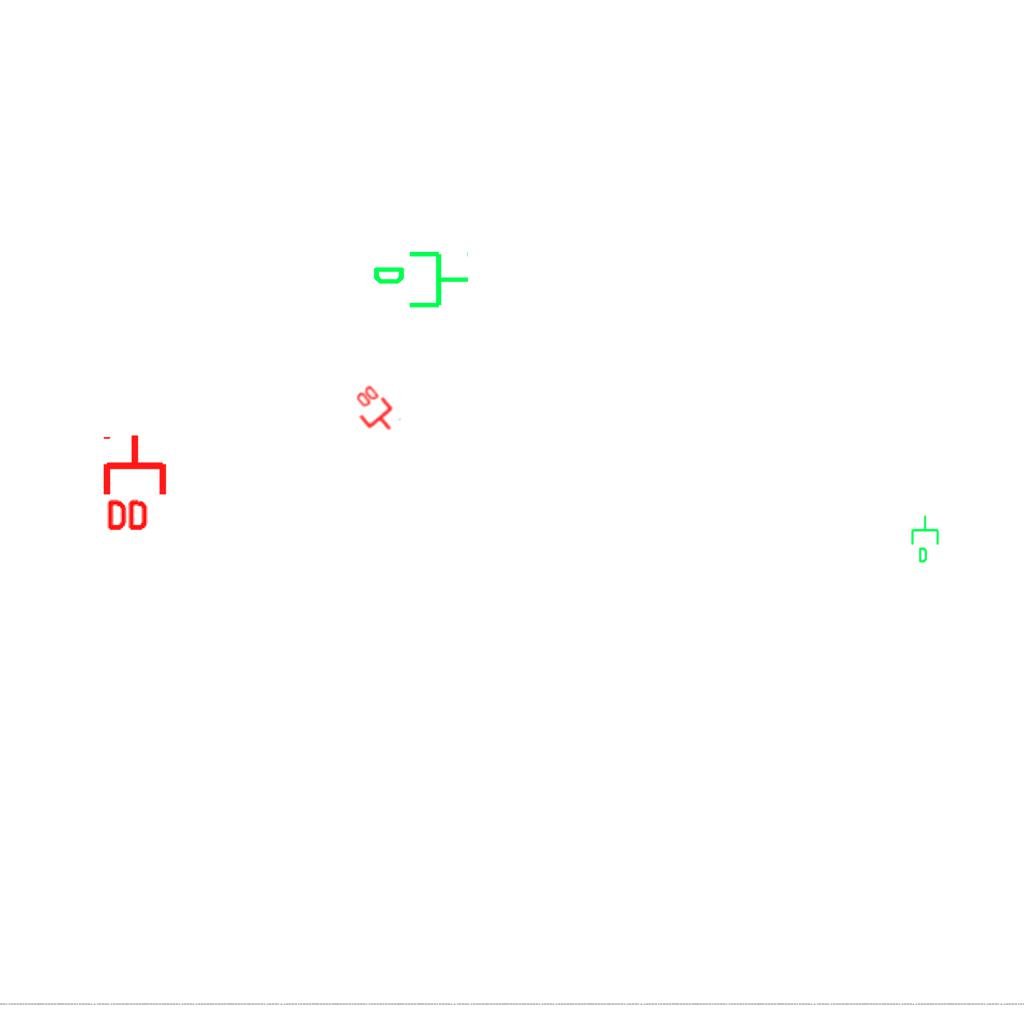Datenanschluss_einfach: (371, 247, 471, 316), (909, 514, 943, 564)
Datenanschluss_zweifach: (102, 432, 171, 535), (344, 381, 404, 442)
